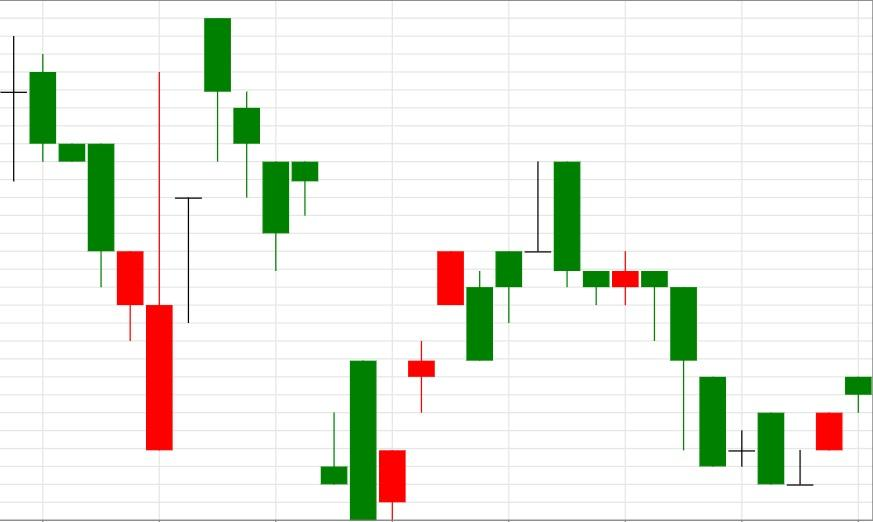three_black_crows_fall: (145, 18, 290, 450)
three_white_soldiers_rise: (291, 161, 464, 522)
